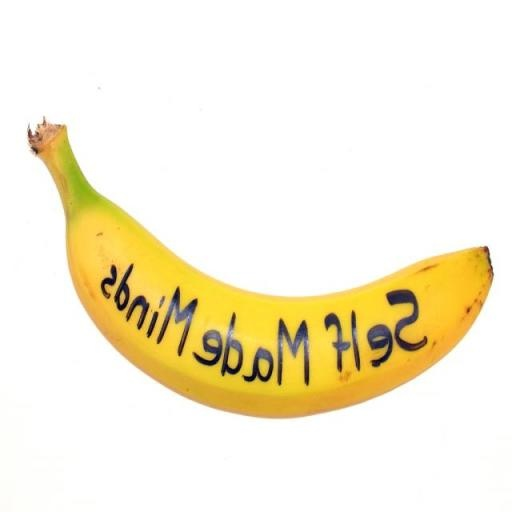fruit: (28, 120, 491, 416)
